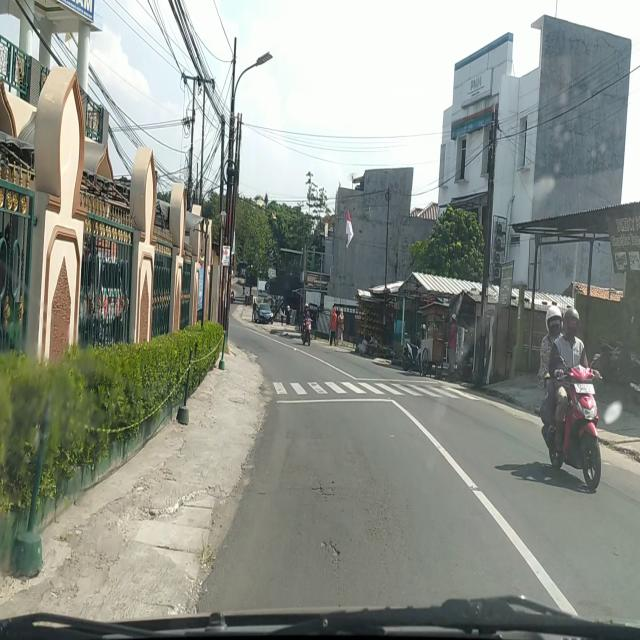Drain Hole: (322, 533, 348, 578), (308, 475, 334, 505)
